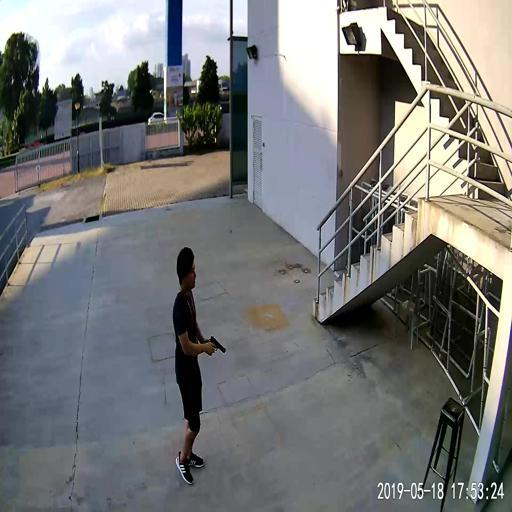Handgun: (206, 331, 225, 353)
